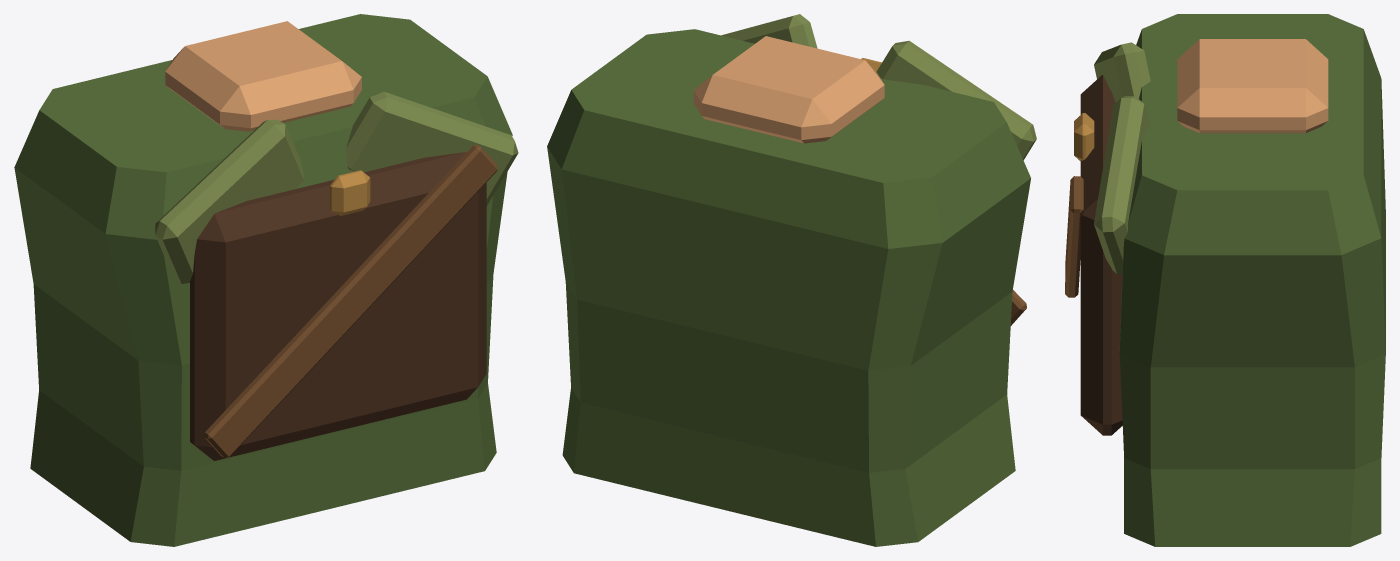
The model's file is SM_NPC_Torso_03_Archer.glb.
3 renders of one model, left to right at view 1: azimuth 30°, elevation 25°; view 2: azimuth 150°, elevation 25°; view 3: azimuth 270°, elevation 25°, orthographic. The views are drawn at different scales.
Parts seen in each view (by area): view 1: SM_NPC_Torso_03_Archer; view 2: SM_NPC_Torso_03_Archer; view 3: SM_NPC_Torso_03_Archer.
Boxes of the visible parts, x1,y1,x2,y2 form: SM_NPC_Torso_03_Archer: [14, 14, 518, 546]; SM_NPC_Torso_03_Archer: [547, 14, 1036, 546]; SM_NPC_Torso_03_Archer: [1065, 14, 1385, 546].
Bounding box in the file's own units: 0.516 × 0.493 × 0.3616.
